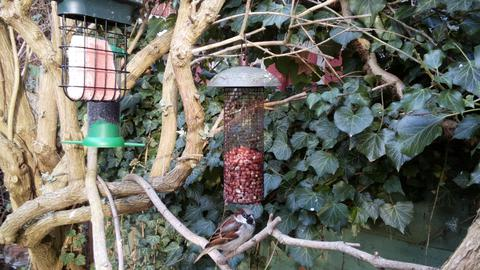sparrow: (192, 207, 256, 264)
